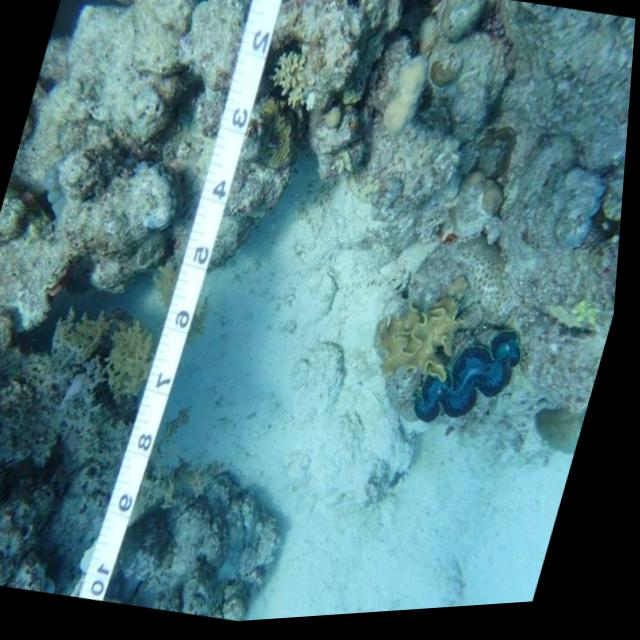Bleached Coral: (0, 297, 167, 464), (358, 36, 451, 178), (251, 28, 355, 145), (399, 0, 526, 89), (107, 143, 204, 259)
